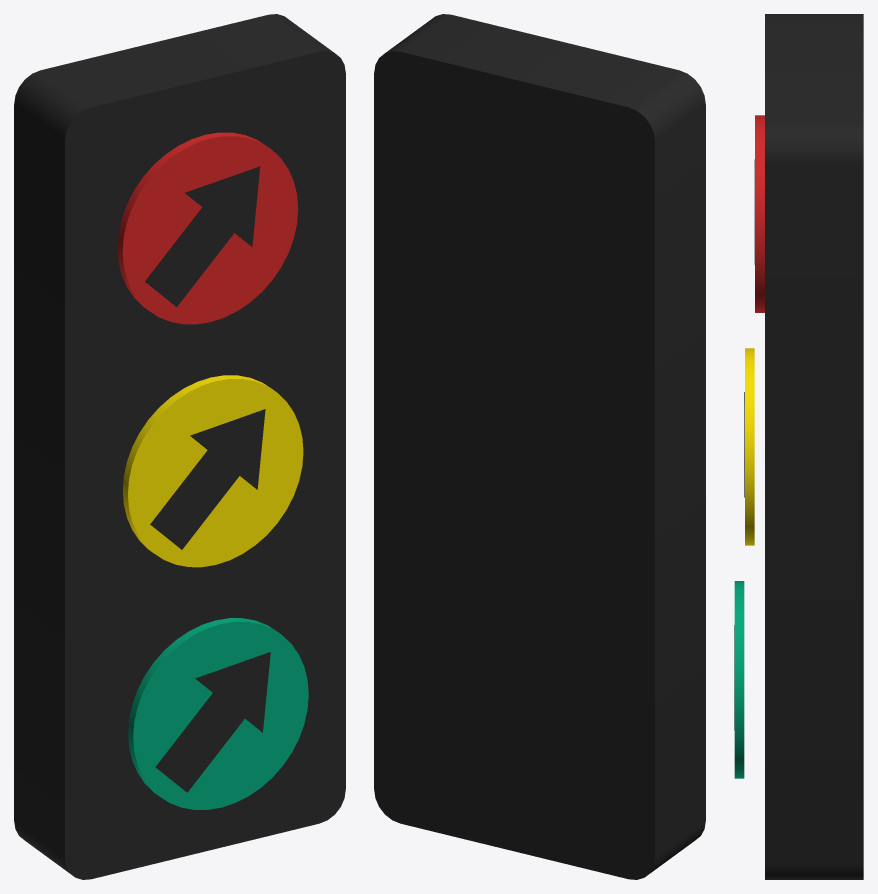
The model's file is R14dtd.glb.
3 renders of one model, left to right at view 1: azimuth 30°, elevation 25°; view 2: azimuth 150°, elevation 25°; view 3: azimuth 270°, elevation 25°, orthographic. The views are drawn at different scales.
Parts seen in each view (by area): view 1: R14dtd_r00, R14dtd_d276, R14dtd_d250, R14dtd_d302, R14dtd_s327, R14dtd_s301, R14dtd_s275; view 2: R14dtd_r00; view 3: R14dtd_r00, R14dtd_d302, R14dtd_d250, R14dtd_d276.
Part boxes in pixels (x1=…): R14dtd_r00: x1=14, y1=14, x2=345, y2=879; R14dtd_d276: x1=123, y1=375, x2=303, y2=567; R14dtd_d250: x1=117, y1=132, x2=298, y2=324; R14dtd_d302: x1=128, y1=618, x2=308, y2=809; R14dtd_s327: x1=155, y1=652, x2=270, y2=792; R14dtd_s301: x1=150, y1=409, x2=265, y2=549; R14dtd_s275: x1=145, y1=166, x2=260, y2=306; R14dtd_r00: x1=374, y1=14, x2=705, y2=879; R14dtd_r00: x1=765, y1=14, x2=863, y2=879; R14dtd_d302: x1=734, y1=581, x2=744, y2=778; R14dtd_d250: x1=755, y1=115, x2=764, y2=312; R14dtd_d276: x1=745, y1=348, x2=754, y2=545.
Bounding box in the file's own units: 0.32 × 0.84 × 0.1312.
